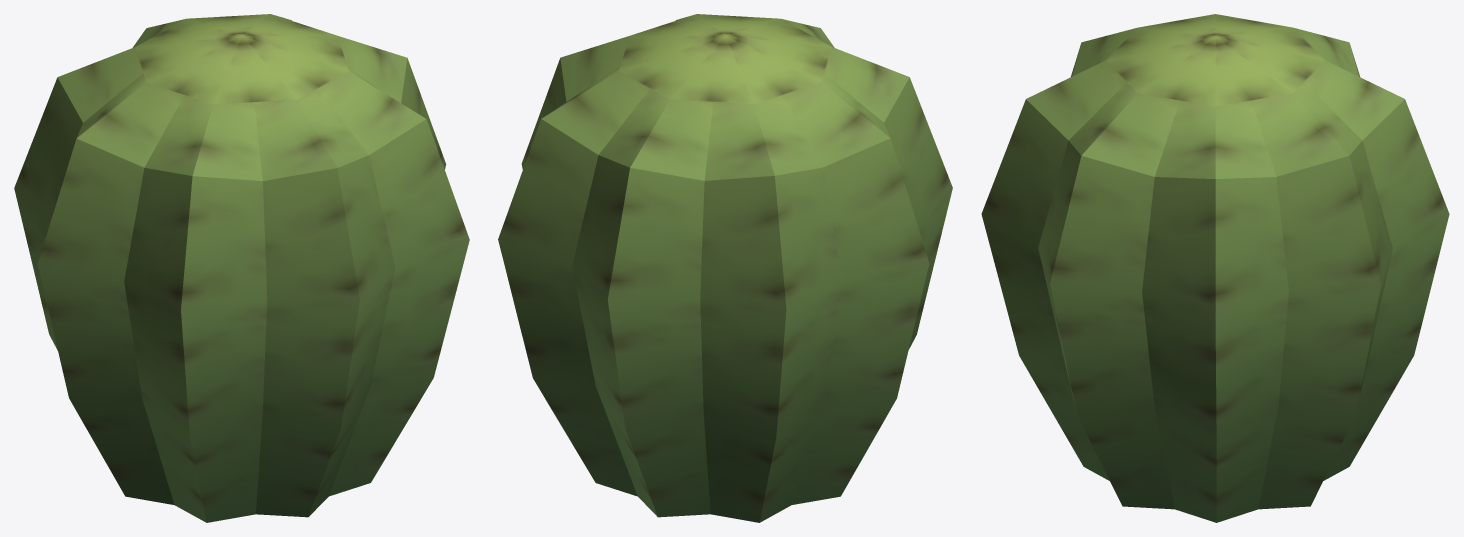
File: Cactus_01.fbx
3 renders of one model, left to right at view 1: azimuth 30°, elevation 25°; view 2: azimuth 150°, elevation 25°; view 3: azimuth 270°, elevation 25°, orthographic.
Parts seen in each view (by area): view 1: Cactus_01; view 2: Cactus_01; view 3: Cactus_01.
Part boxes in pixels (x1,y1,x2,y2): Cactus_01: [14, 14, 469, 522]; Cactus_01: [498, 14, 952, 522]; Cactus_01: [981, 14, 1449, 522].
Bounding box in the file's own units: 548 × 555 × 548.
